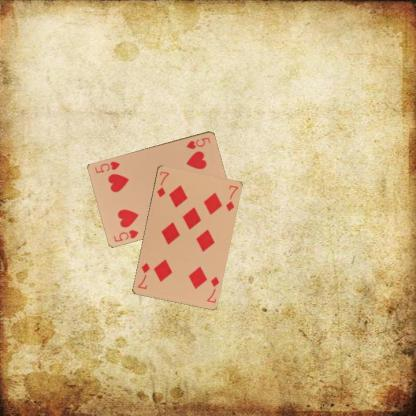5h: (111, 227, 140, 243), (184, 135, 211, 150)
7d: (154, 168, 170, 198), (204, 274, 220, 304)
